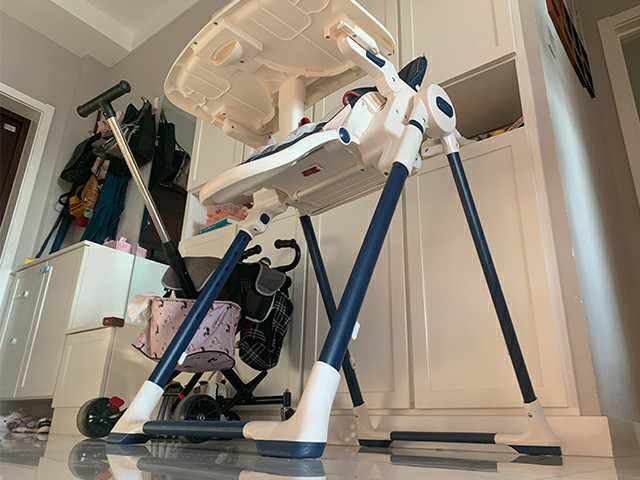cabinet: (187, 1, 640, 457), (48, 318, 153, 436)
